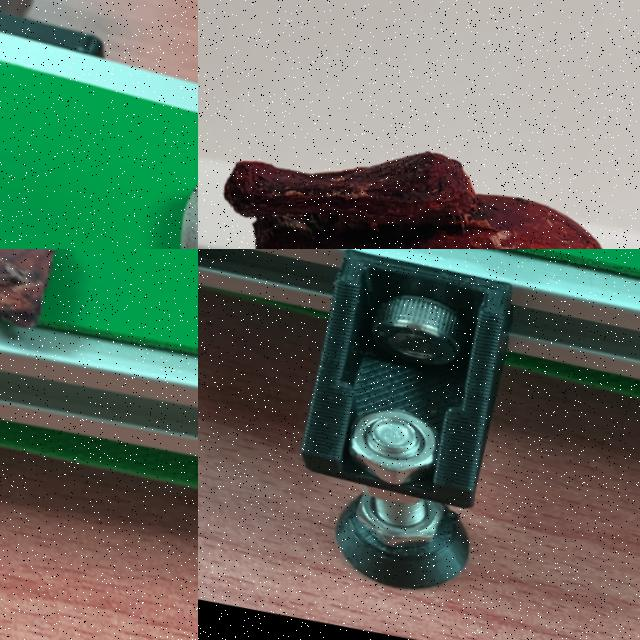Agglomerated_cocoabeans: (198, 85, 639, 248)
Fine_cocoabeans: (68, 117, 197, 248)
Flat_cocoabeans: (0, 249, 195, 388)
